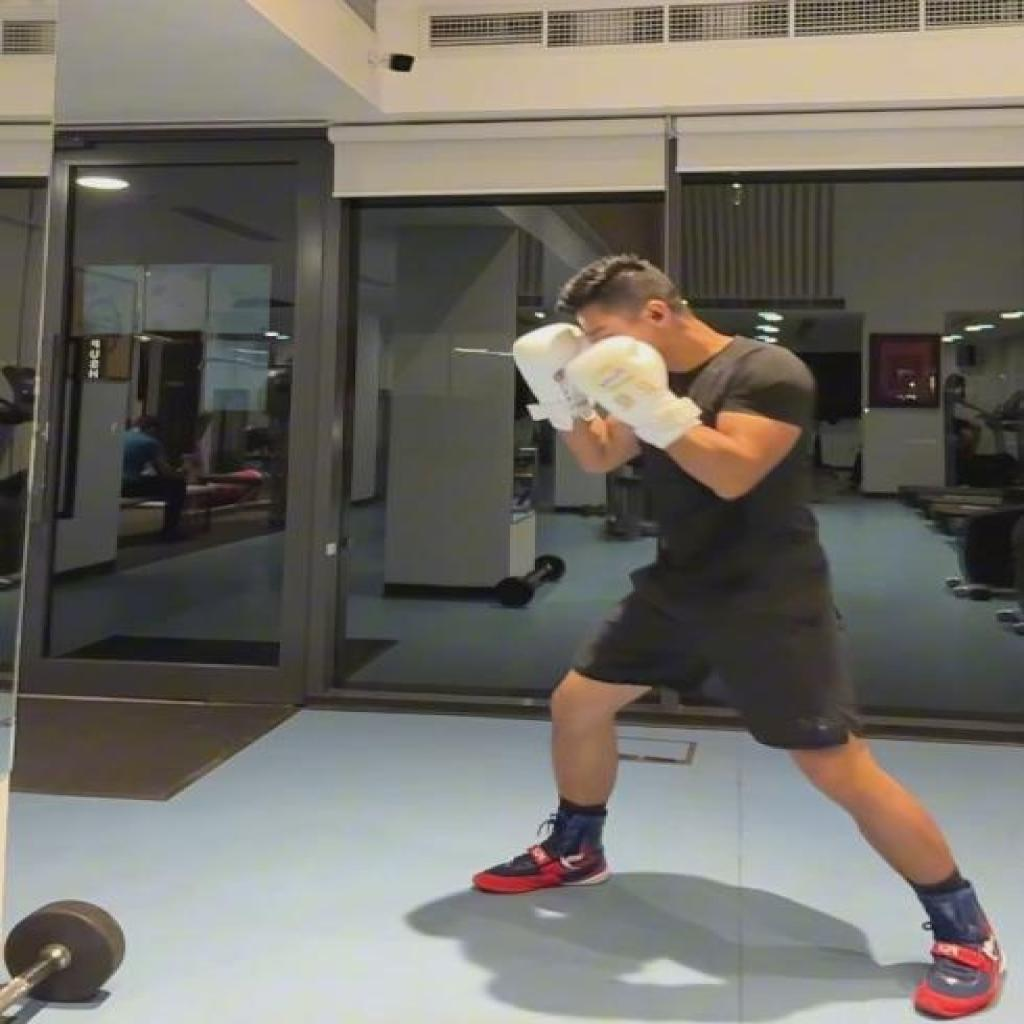no punch: (468, 245, 1012, 1024)
